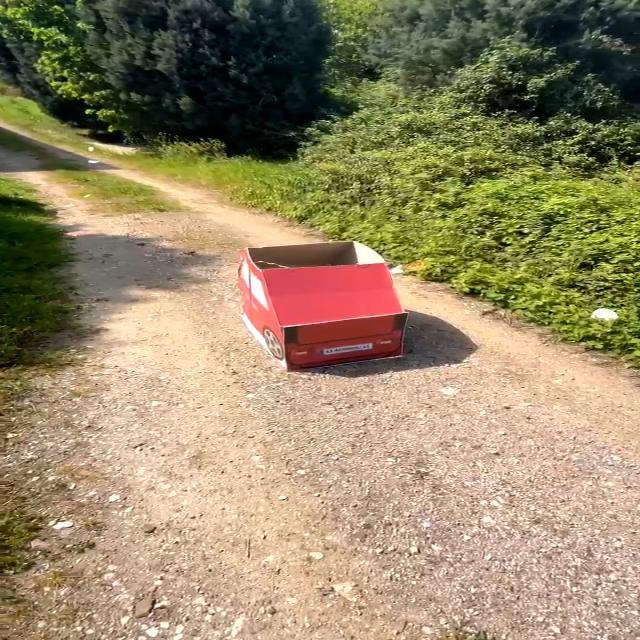red_car: (215, 226, 448, 396)
